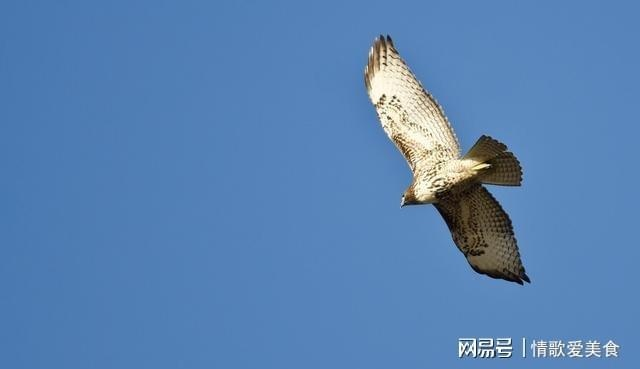bird: (363, 30, 533, 287)
